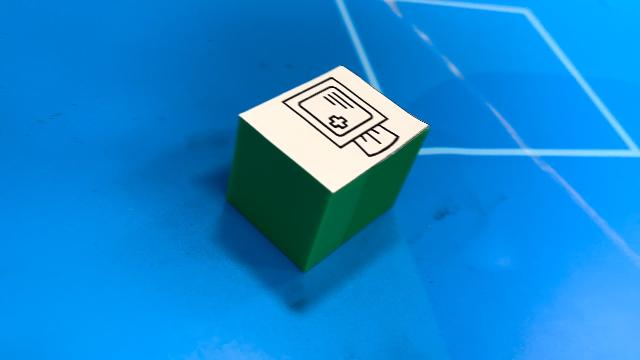napkin: (228, 66, 434, 274)
